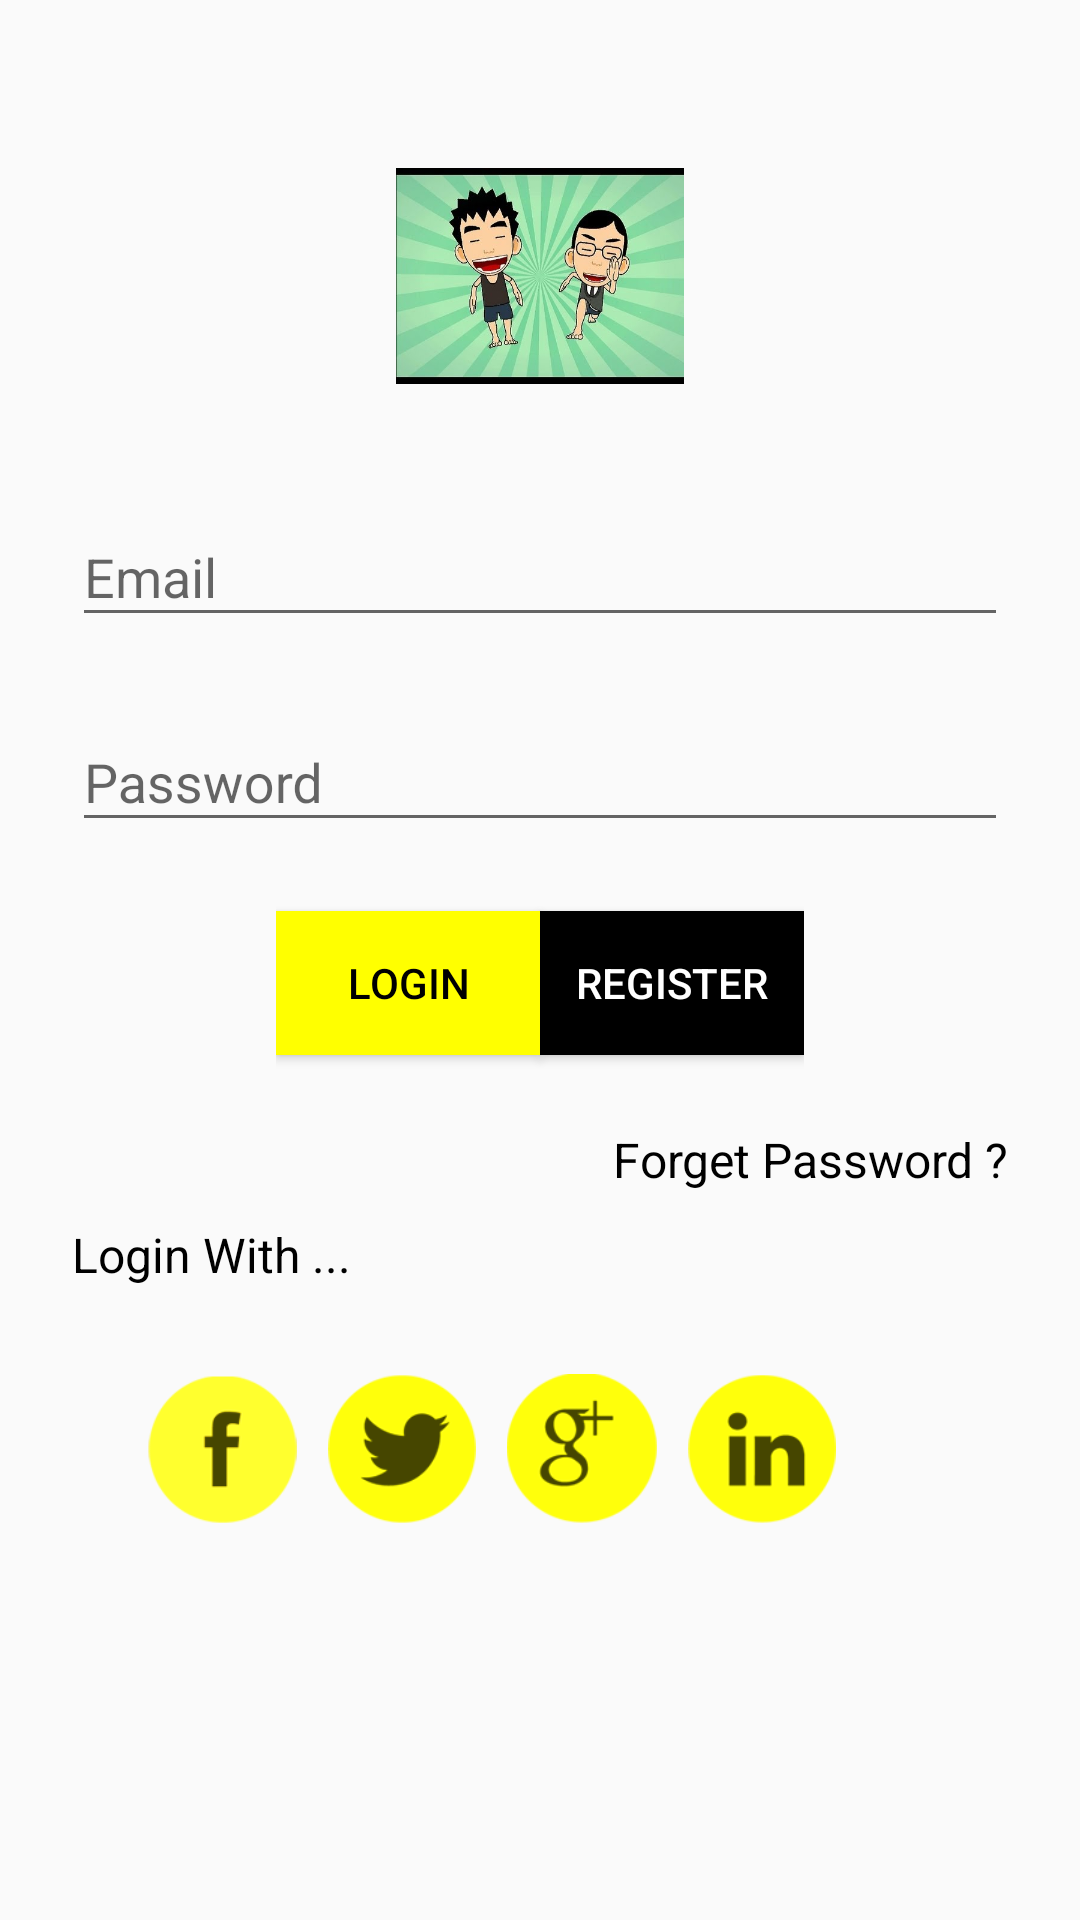

Where icons sit on this 1080w x 1920h app screen, as (x1, y1, x2, y2):
profileimage: (396, 168, 684, 384)
